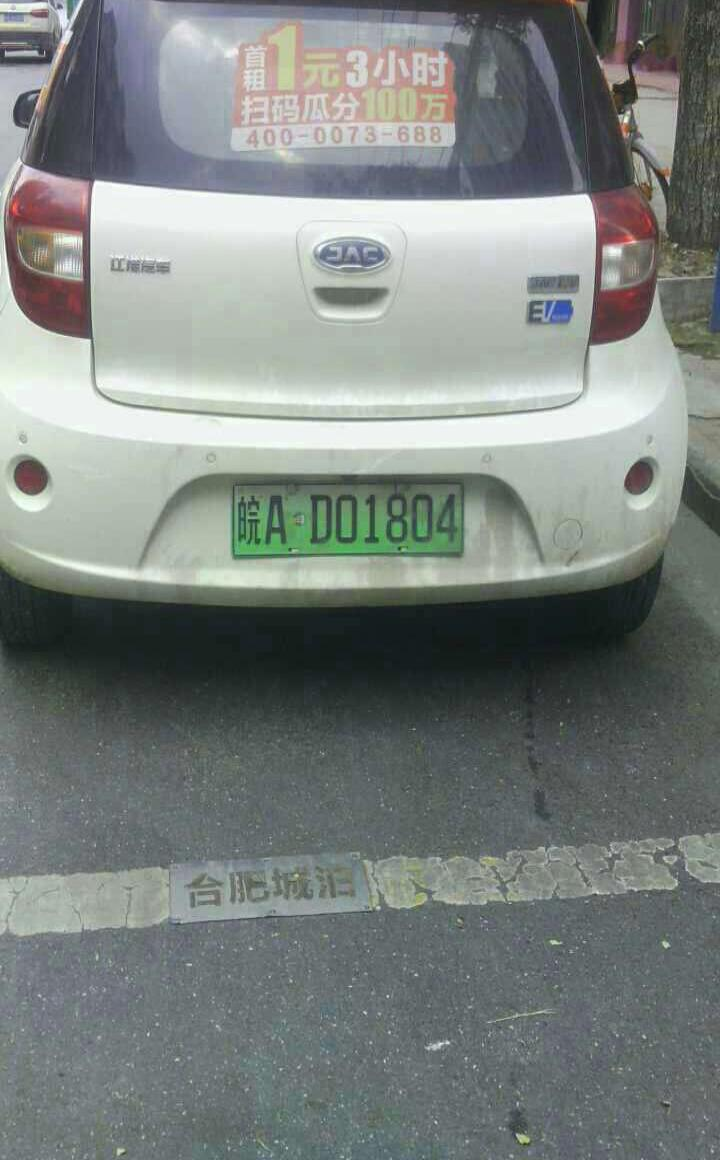car_id: (233, 485, 461, 557)
